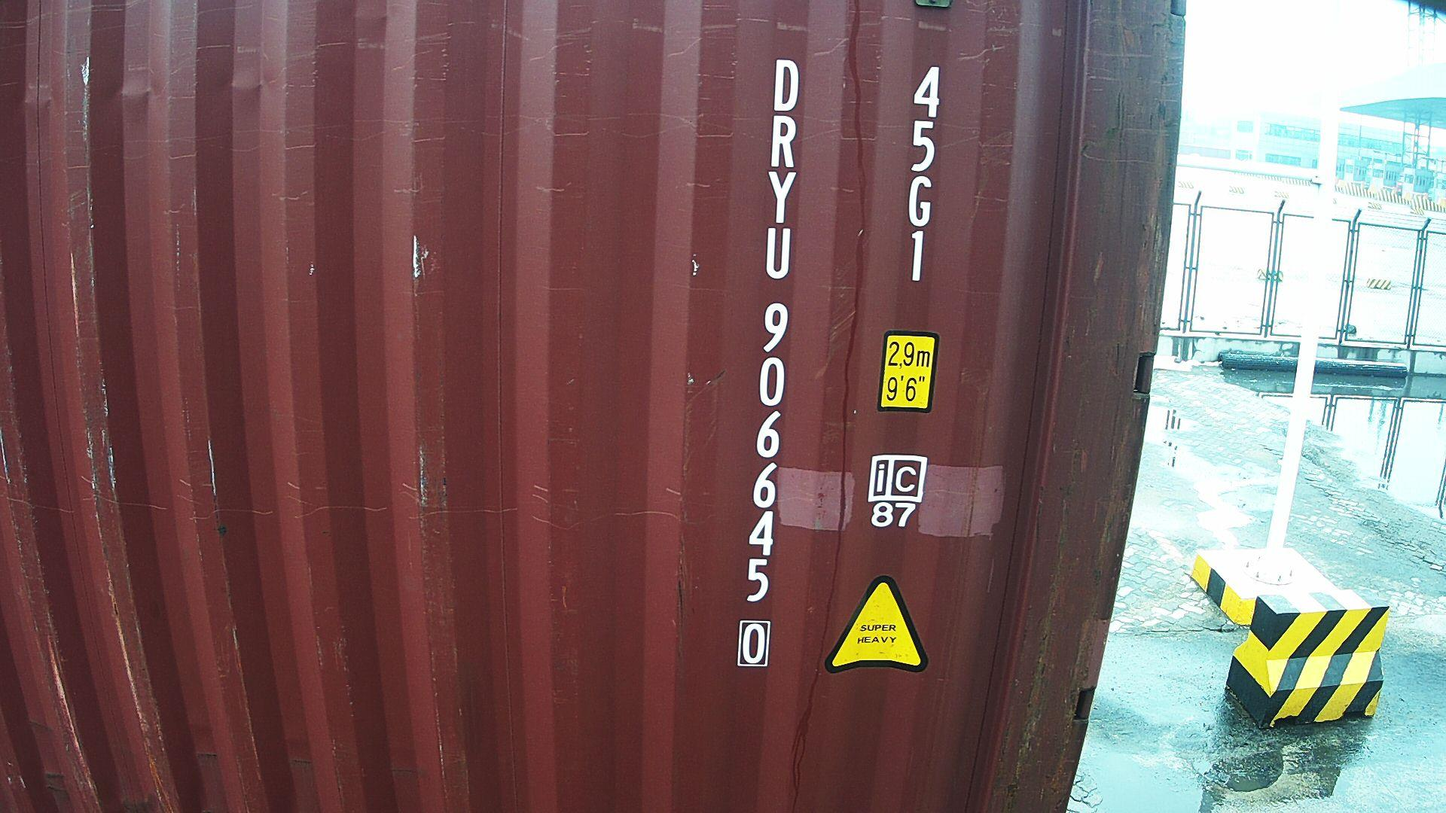container-numbers: (734, 53, 803, 672), (898, 61, 947, 289)
